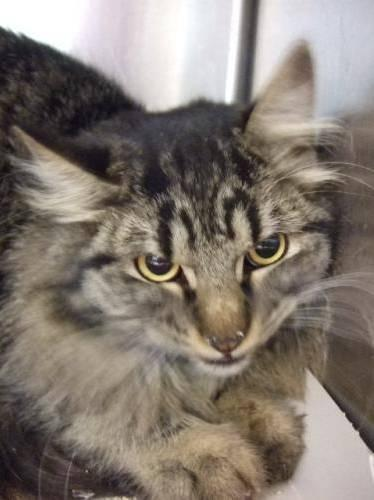cat: (0, 29, 374, 500)
